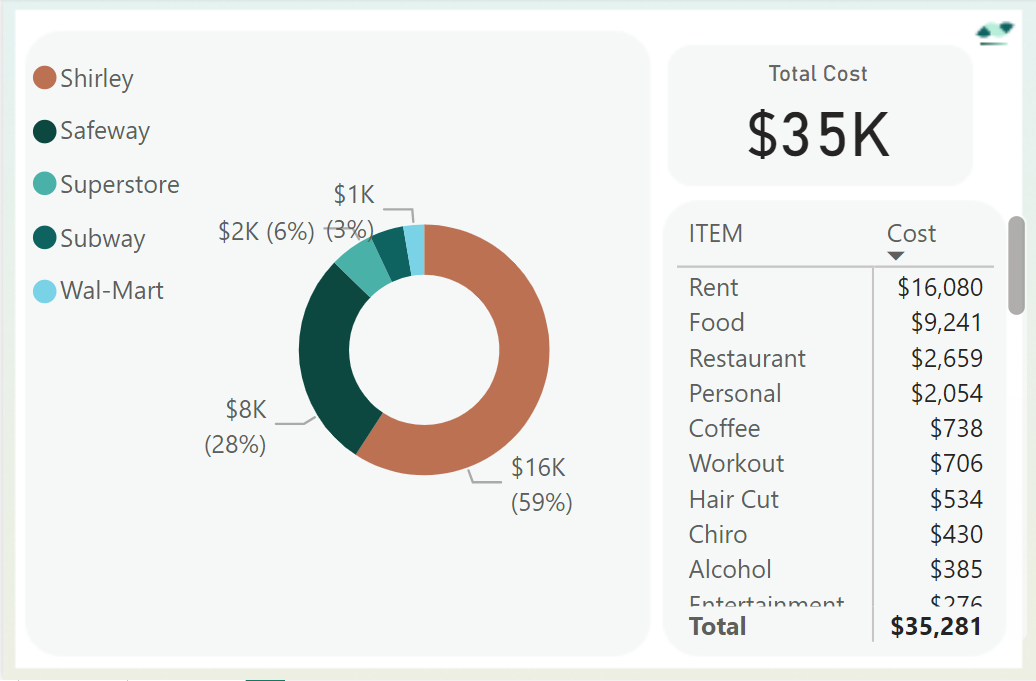

The dashboard page shown, as its layout file describes it:
{"tool":"powerbi","page":{"name":"Item ToolTip","canvas":[440,290],"ordinal":1},"visuals":[{"type":"card","title":"Total Cost","fields":{"Values":["Sum(df.COST)"]},"box":[290.7,21.3,111.6,57.3],"z":0},{"type":"donutChart","title":"By Location","fields":{"Category":["df.LOCATION"],"Y":["Sum(df.COST)"]},"box":[10.2,16.9,265.8,262.2],"z":2},{"type":"pivotTable","fields":{"Rows":["df.ITEM"],"Values":["Sum(df.COST)"]},"box":[281.3,86.7,158.7,192.4],"z":3}]}

Visuals, with their boxes in screenshot pixels (x1, y1, x2, y2), scaled from the page's 440x290 canvas onto the 1036x681 screenshot:
"Total Cost" card: BBox(684, 50, 947, 185)
"By Location" donutChart: BBox(24, 40, 650, 655)
pivotTable - df.ITEM x Sum(df.COST): BBox(662, 204, 1035, 655)
